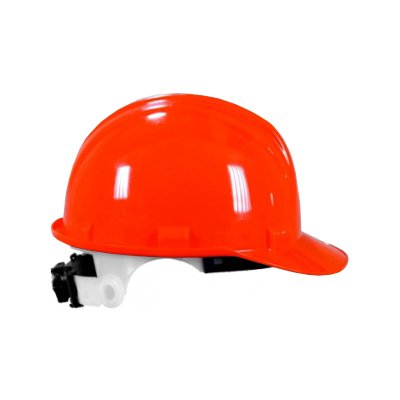baret: (31, 89, 353, 316)
